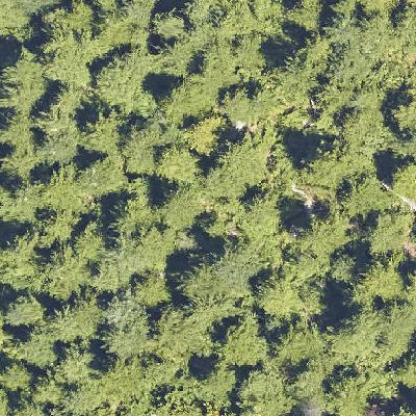tree-top: (248, 268, 320, 318), (37, 164, 96, 218), (36, 32, 97, 84), (164, 68, 219, 120), (350, 252, 406, 303), (270, 320, 326, 370), (216, 317, 268, 370), (222, 80, 276, 129), (336, 101, 387, 151), (127, 223, 181, 270), (41, 242, 88, 296), (90, 56, 140, 106), (155, 141, 206, 190), (125, 267, 178, 314), (335, 168, 384, 218), (180, 113, 232, 160), (241, 190, 286, 242), (236, 366, 286, 406), (76, 112, 121, 154), (291, 27, 335, 69), (104, 293, 147, 331), (0, 108, 37, 150)
